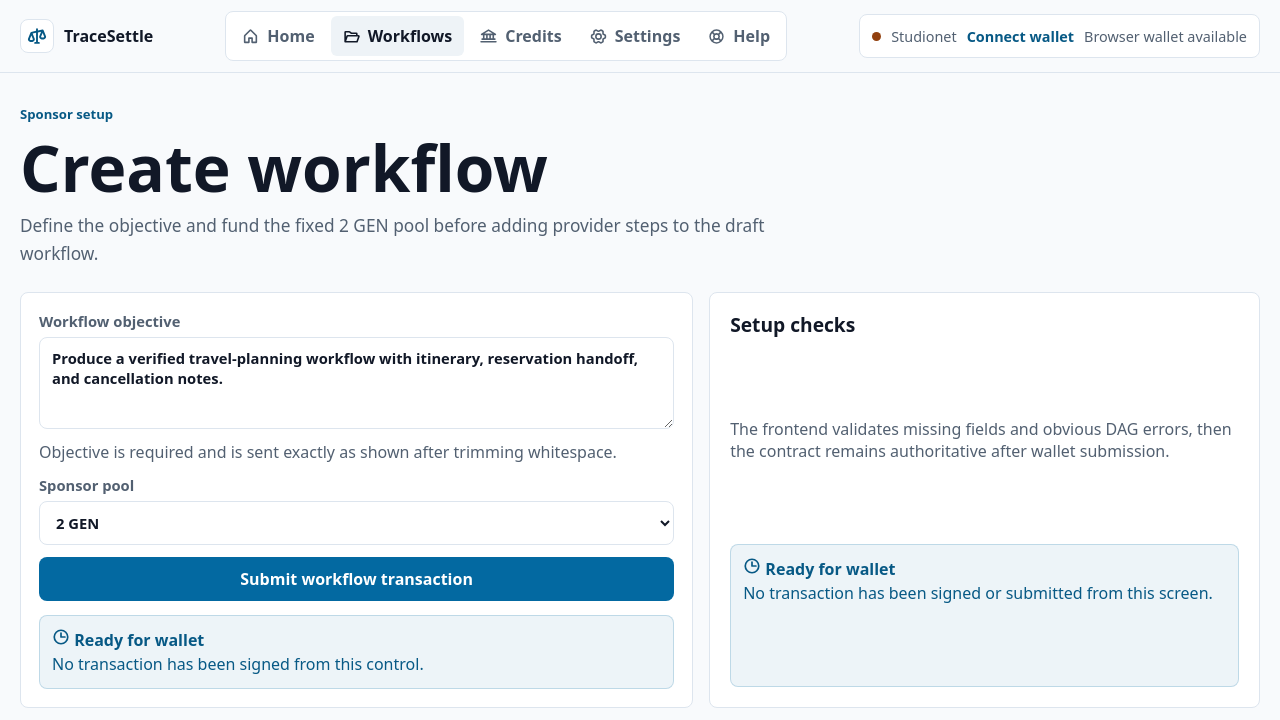
Test case: TraceSettle route map › surfaces a plain wallet rejection from a write control
Step 1. Click the button "Submit workflow transaction" → (357, 578), box [39, 556, 674, 600]
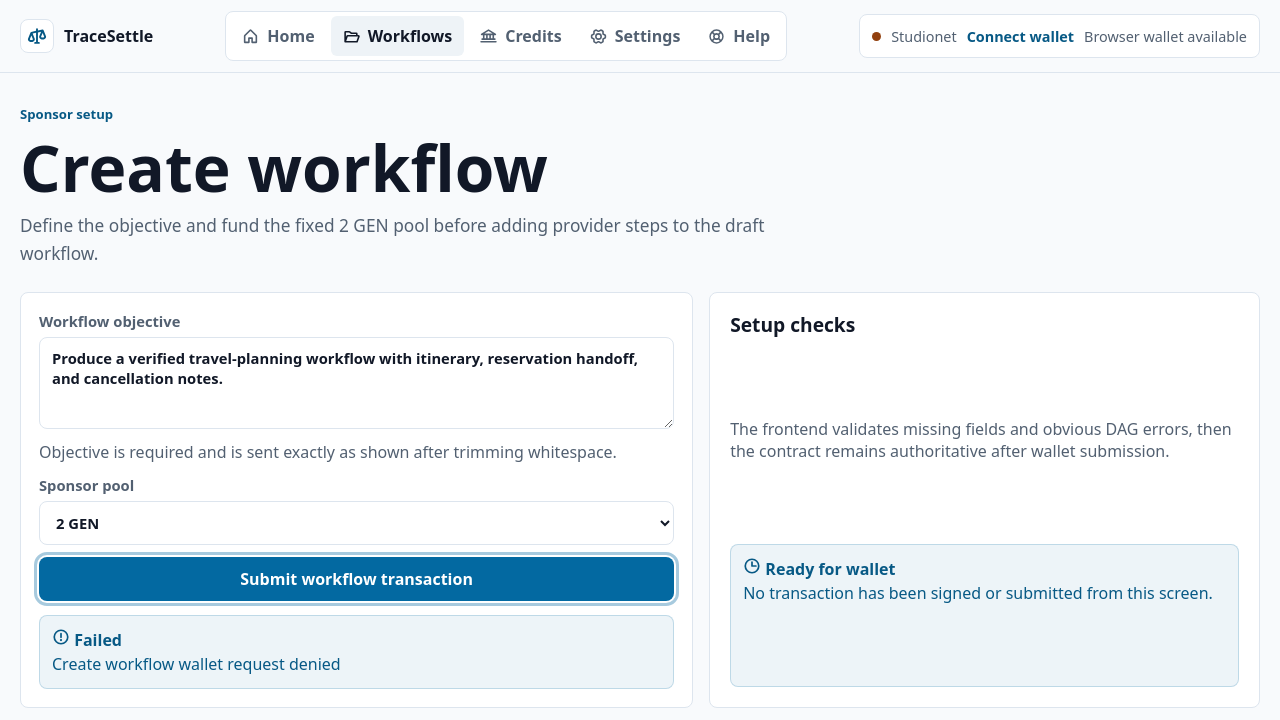
expect the text "Create workflow wallet request denied" is shown: met, box [52, 652, 341, 674]
